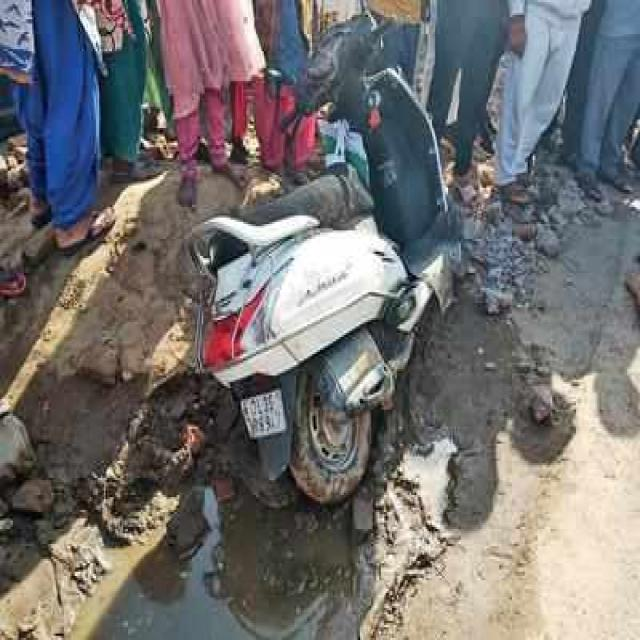motorcycle: (189, 18, 460, 502)
